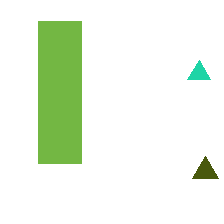rectangle: (38, 21, 81, 163)
triangle: (192, 156, 218, 178), (187, 60, 210, 79)
